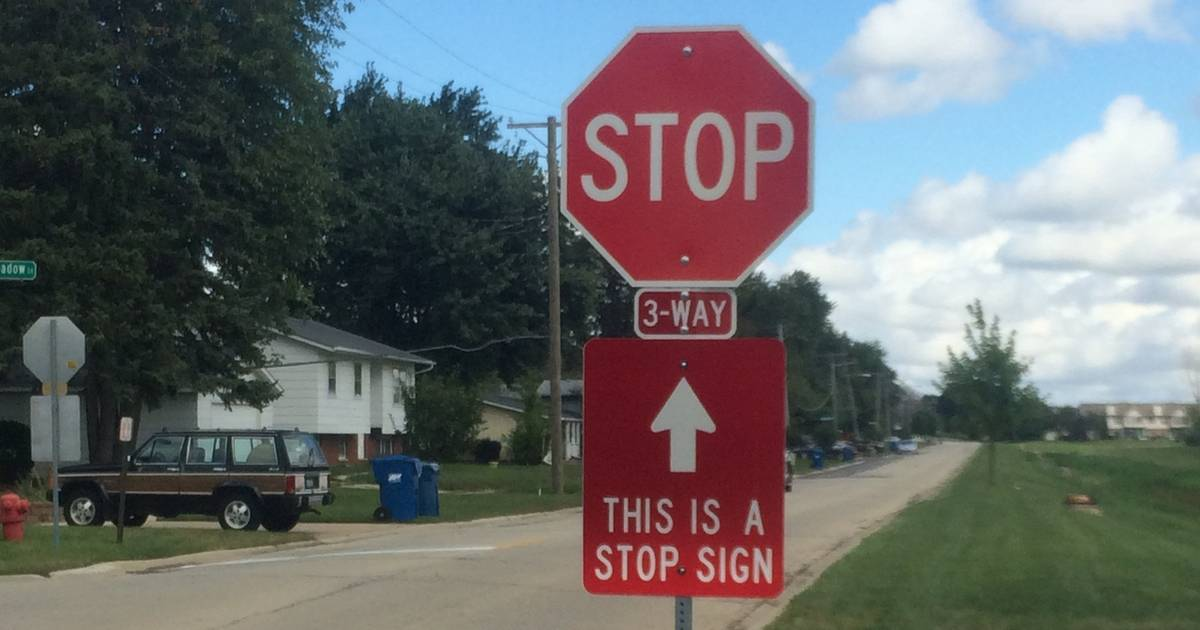stopsign: (560, 21, 821, 289)
